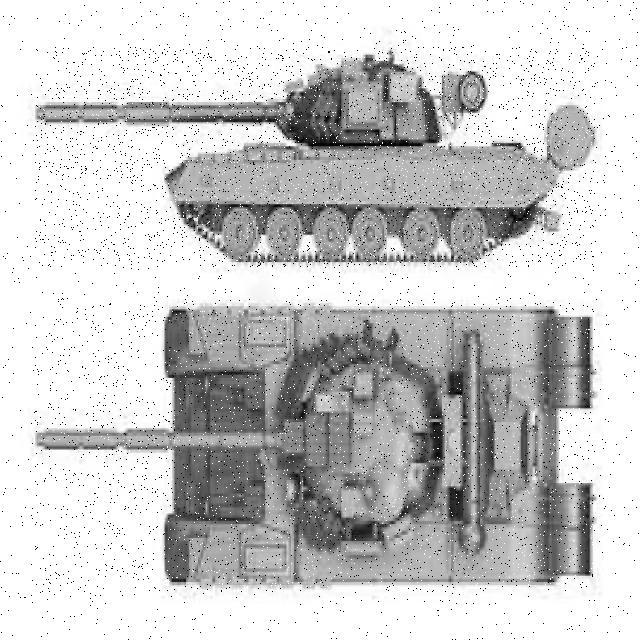MIL_MBT: (34, 299, 595, 592), (34, 47, 598, 267)
